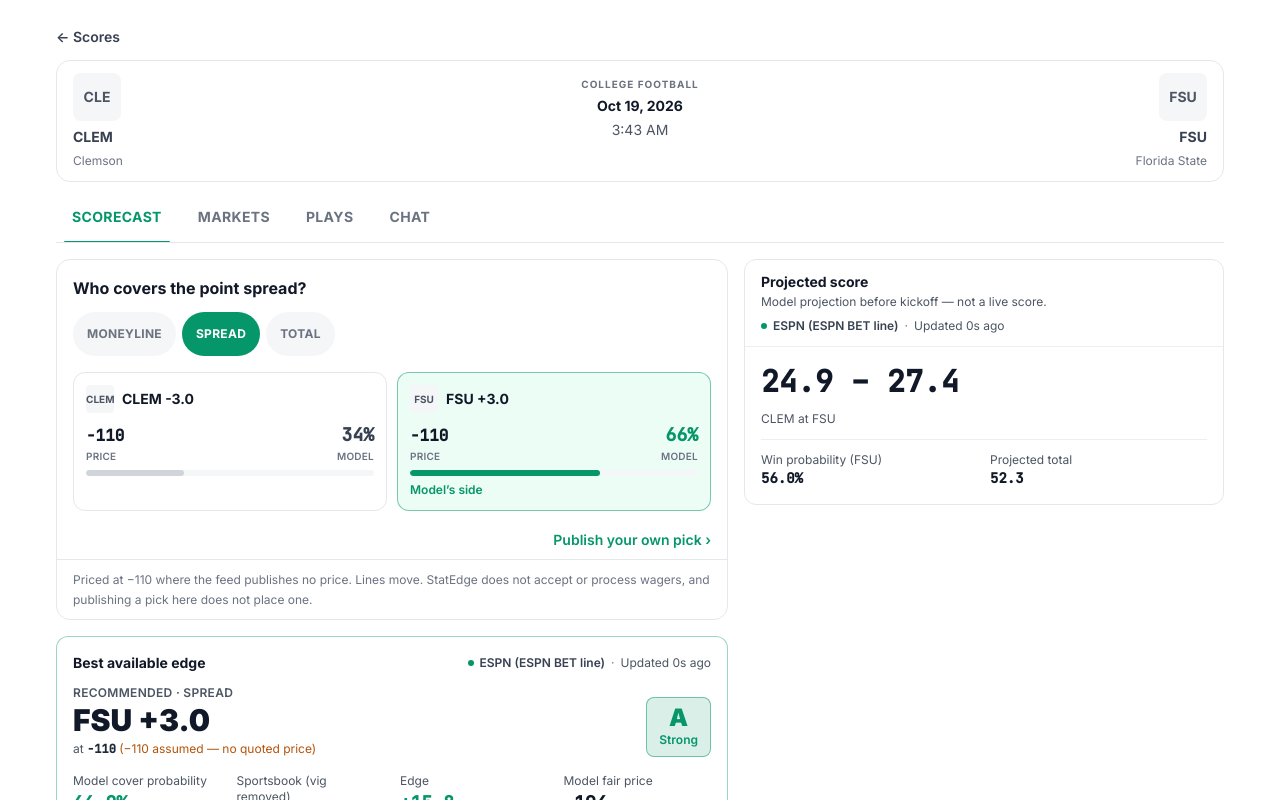
Test: Game Center — pregame › leads with the model insight, not an empty play-by-play
Expected: the text "FSU +3.0" below "Recommended ·" is shown, left=73, top=702, right=210, bottom=738
Expected: the text "Model cover probability" is shown, left=73, top=773, right=220, bottom=789
Click the tab "Plays". click: (330, 220)
box: left=290, top=198, right=369, bottom=242
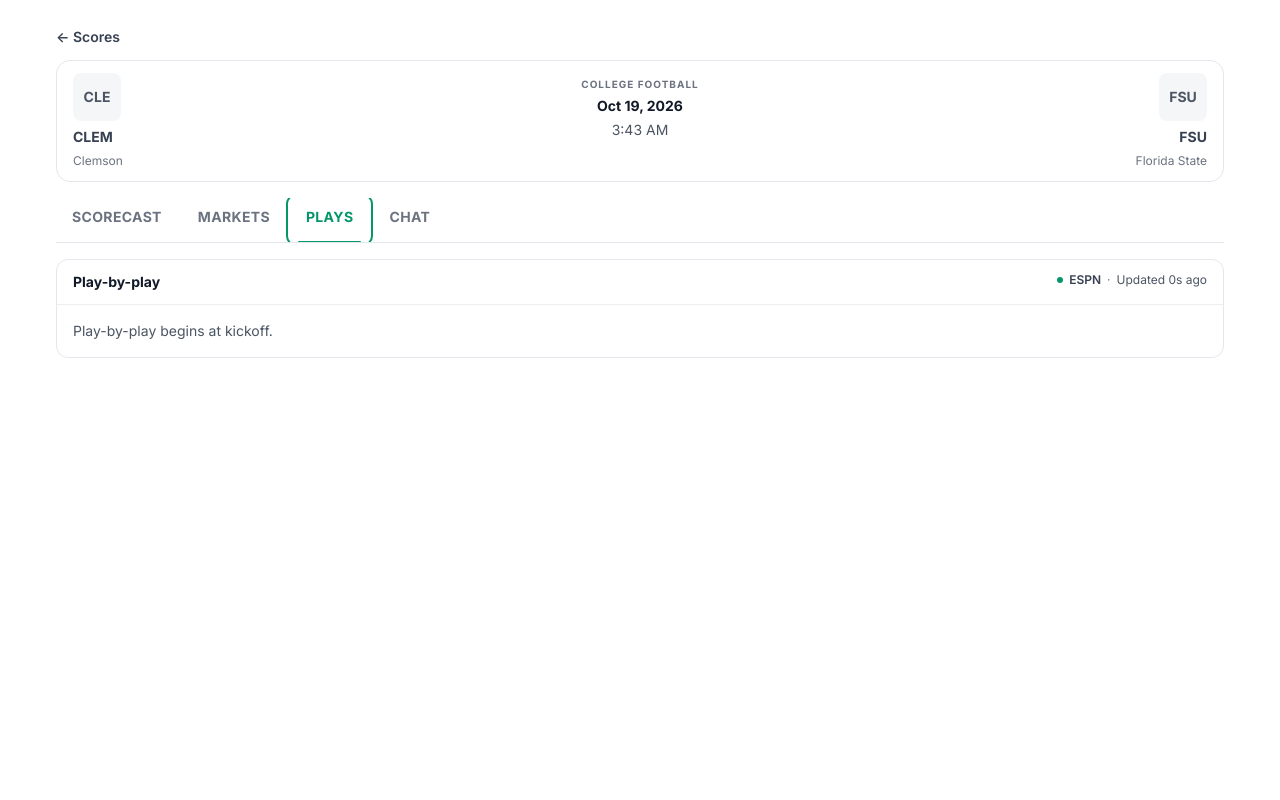
Expected: the text "Play-by-play begins at kickoff." is shown, left=73, top=322, right=273, bottom=339
